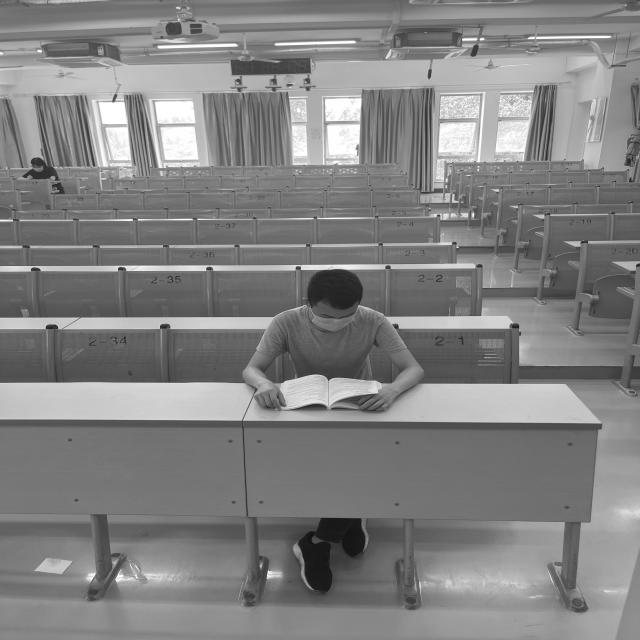study: (242, 271, 427, 413)
